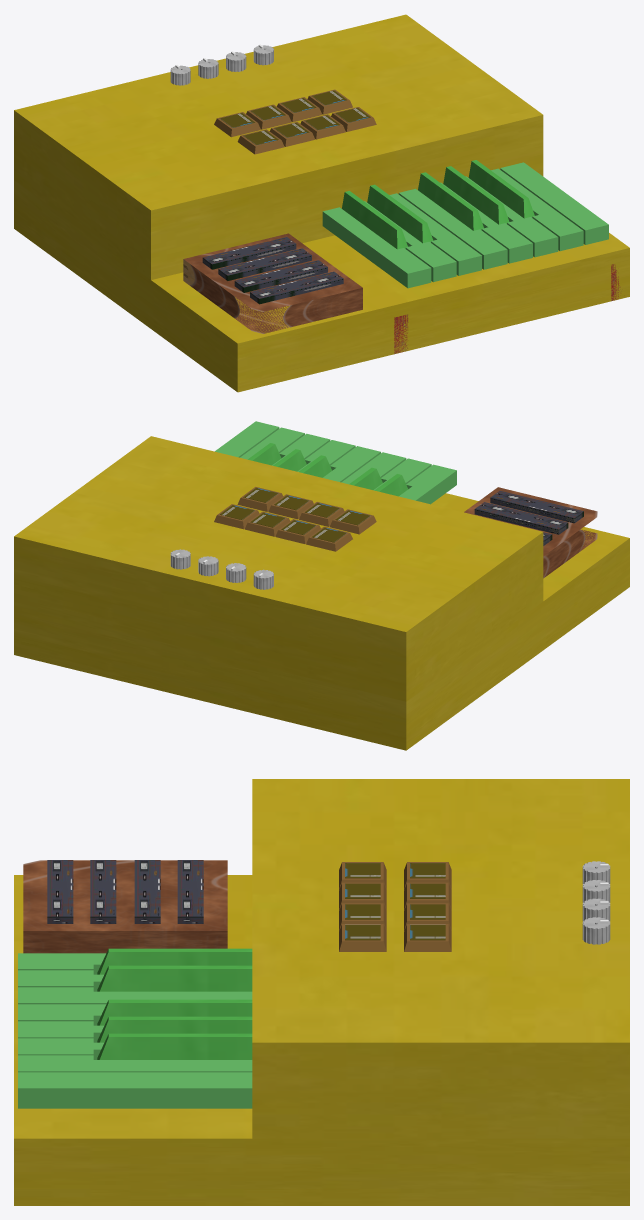
File: Music_keyboard__0000.glb
The picture shows the model from 3 angles, top to bottom: view 1: azimuth 30°, elevation 25°; view 2: azimuth 150°, elevation 25°; view 3: azimuth 270°, elevation 25°; orthographic projection. The views are drawn at different scales.
Parts seen in each view (by area): view 1: chassis::control_deck, chassis::base_shell, chassis::bender_block, white_key_0::key_body, white_key_7::key_body, white_key_3::key_body, white_key_6::key_body, white_key_2::key_body, black_key_0::key_body, black_key_2::key_body, black_key_3::key_body, black_key_4::key_body (+8 smaller); view 2: chassis::control_deck, chassis::base_shell, chassis::bender_block, white_key_0::key_body, chassis::bend_strip_1, chassis::bend_strip_0, white_key_7::key_body, white_key_3::key_body, white_key_2::key_body, white_key_6::key_body, white_key_5::key_body, white_key_1::key_body (+3 smaller); view 3: chassis::control_deck, chassis::base_shell, chassis::bender_block, white_key_7::key_body, black_key_1::key_body, black_key_4::key_body, white_key_6::key_body, white_key_2::key_body, black_key_0::key_body, black_key_2::key_body, black_key_3::key_body, chassis::bend_strip_0 (+13 smaller).
Boxes of the visible parts, x1=… form: chassis::control_deck: x1=14, y1=14, x2=543, y2=279; chassis::base_shell: x1=14, y1=180, x2=629, y2=392; chassis::bender_block: x1=183, y1=233, x2=362, y2=333; white_key_0::key_body: x1=322, y1=207, x2=431, y2=288; white_key_7::key_body: x1=500, y1=162, x2=608, y2=244; white_key_3::key_body: x1=398, y1=188, x2=507, y2=269; white_key_6::key_body: x1=491, y1=168, x2=583, y2=251; white_key_2::key_body: x1=389, y1=193, x2=481, y2=275; black_key_0::key_body: x1=342, y1=191, x2=407, y2=249; black_key_2::key_body: x1=418, y1=172, x2=483, y2=230; black_key_3::key_body: x1=443, y1=166, x2=509, y2=224; black_key_4::key_body: x1=468, y1=160, x2=534, y2=218; chassis::control_deck: x1=14, y1=436, x2=543, y2=701; chassis::base_shell: x1=14, y1=493, x2=629, y2=750; chassis::bender_block: x1=464, y1=487, x2=597, y2=578; white_key_0::key_body: x1=399, y1=464, x2=456, y2=504; chassis::bend_strip_1: x1=474, y1=502, x2=568, y2=534; chassis::bend_strip_0: x1=490, y1=491, x2=583, y2=523; white_key_7::key_body: x1=215, y1=421, x2=279, y2=457; white_key_3::key_body: x1=323, y1=446, x2=380, y2=482; white_key_2::key_body: x1=341, y1=452, x2=406, y2=484; white_key_6::key_body: x1=240, y1=427, x2=304, y2=459; white_key_5::key_body: x1=272, y1=433, x2=330, y2=465; white_key_1::key_body: x1=373, y1=458, x2=431, y2=490; chassis::control_deck: x1=252, y1=779, x2=629, y2=1138; chassis::base_shell: x1=14, y1=875, x2=629, y2=1205; chassis::bender_block: x1=23, y1=860, x2=227, y2=953; white_key_7::key_body: x1=18, y1=1072, x2=252, y2=1108; black_key_1::key_body: x1=97, y1=965, x2=252, y2=991; black_key_4::key_body: x1=97, y1=1033, x2=252, y2=1059; white_key_6::key_body: x1=18, y1=1055, x2=252, y2=1072; white_key_2::key_body: x1=18, y1=987, x2=252, y2=1004; black_key_0::key_body: x1=97, y1=948, x2=252, y2=974; black_key_2::key_body: x1=97, y1=999, x2=252, y2=1025; black_key_3::key_body: x1=97, y1=1016, x2=252, y2=1042; chassis::bend_strip_0: x1=47, y1=860, x2=73, y2=923.
Size of the model in its own units: 0.3356 by 0.1077 by 0.3315.
10 materials, 8 textured.
